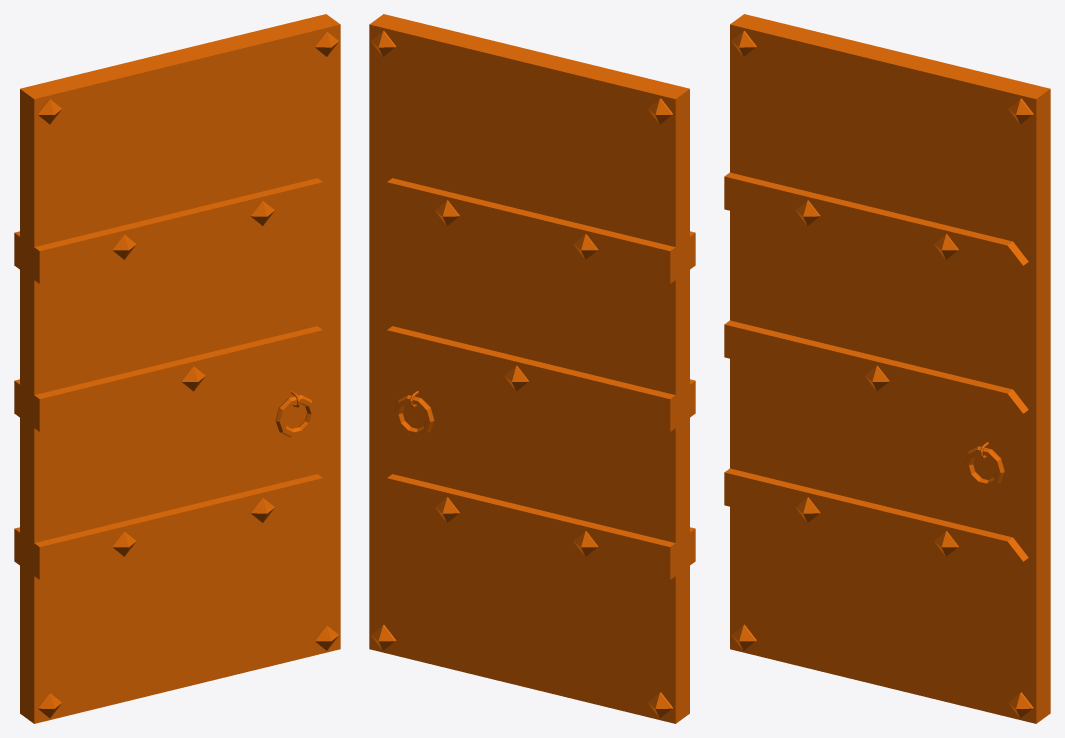
The model's file is Deur v1 (losse hendels).fbx.
3 renders of one model, left to right at view 1: azimuth 30°, elevation 25°; view 2: azimuth 150°, elevation 25°; view 3: azimuth 330°, elevation 25°, orthographic.
Visible parts, largest first — view 1: Deur v1, Deur v1 .002; view 2: Deur v1, Deur v1 .001; view 3: Deur v1, Deur v1 .002.
Part boxes in pixels (box(x1,y1,x2,y2)): Deur v1: box(14, 14, 340, 723); Deur v1 .002: box(275, 395, 315, 437); Deur v1: box(369, 14, 695, 723); Deur v1 .001: box(394, 395, 434, 437); Deur v1: box(724, 14, 1050, 723); Deur v1 .002: box(965, 446, 1004, 488).
Size of the model in its own units: 1.24 by 2.41 by 0.2498.
